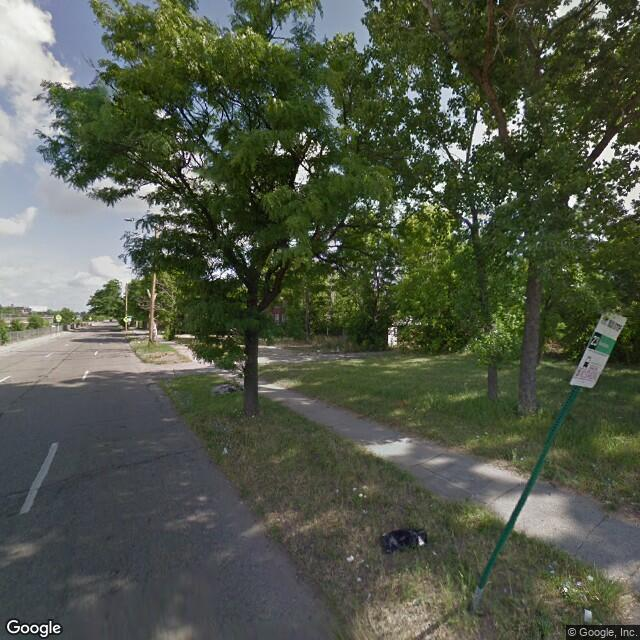litter: (379, 525, 432, 553), (582, 606, 595, 623), (345, 552, 356, 563), (222, 445, 230, 456)
